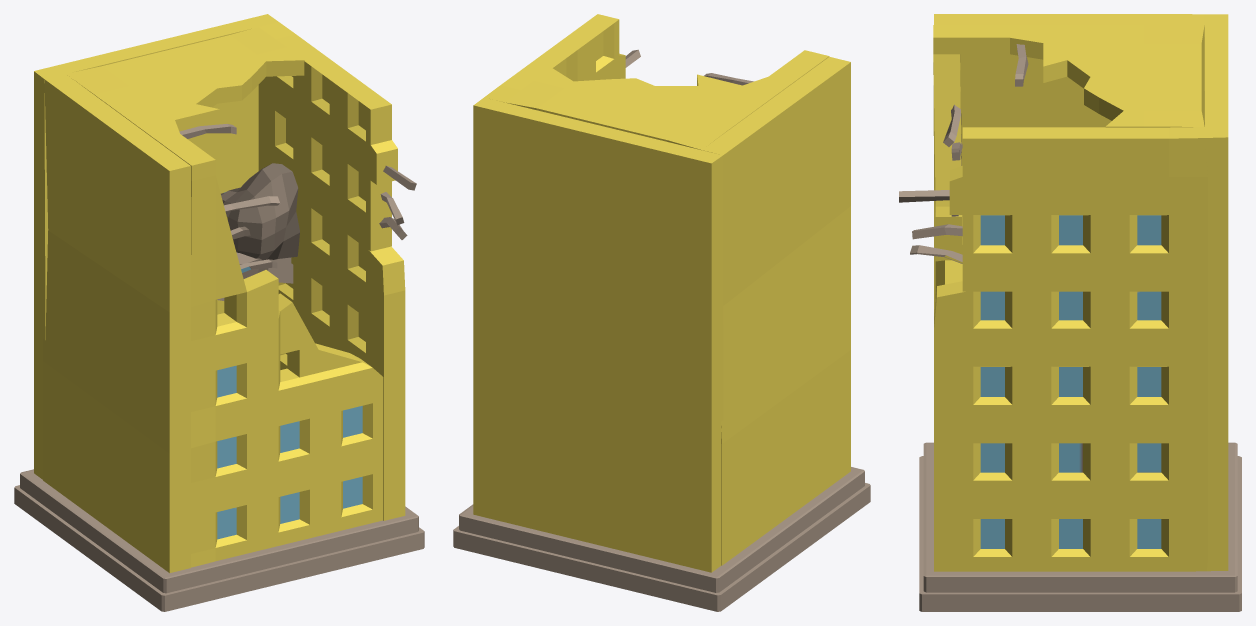
The model's file is CityHomeBroken.fbx.
3 views of the same model, side by side, from view 1: azimuth 30°, elevation 25°; view 2: azimuth 150°, elevation 25°; view 3: azimuth 270°, elevation 25° (orthographic). The views are drawn at different scales.
Parts seen in each view (by area): view 1: Cube.388; view 2: Cube.388; view 3: Cube.388.
Boxes of the visible parts, x1,y1,x2,y2 form: Cube.388: (14,14,424,611); Cube.388: (453,14,870,611); Cube.388: (899,14,1241,611).
Size of the model in its own units: 388 by 611 by 407.
